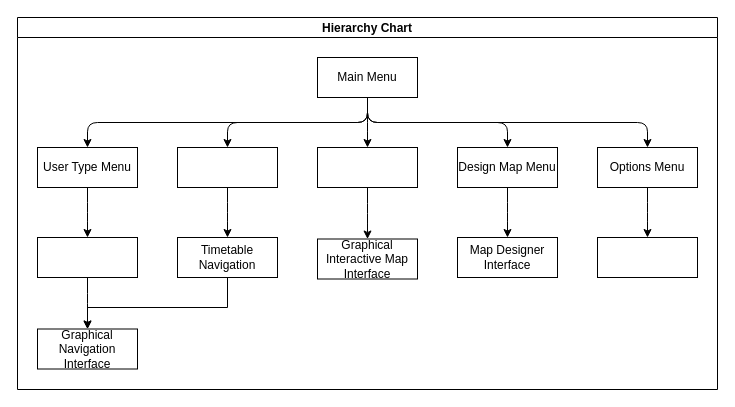
Some shapes in this 735 by 407 pixel diagram are drawn without their labels. Here are the shapes that lost their labels. From the top down, the centre of each, then its label:
the point at 227,167: Login Menu
the point at 367,167: View Map Menu
the point at 87,257: Navigation Menu
the point at 647,257: Timetable Adjustment
